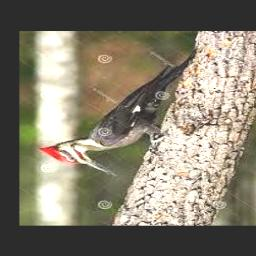Woodpecker: (41, 49, 197, 176)
